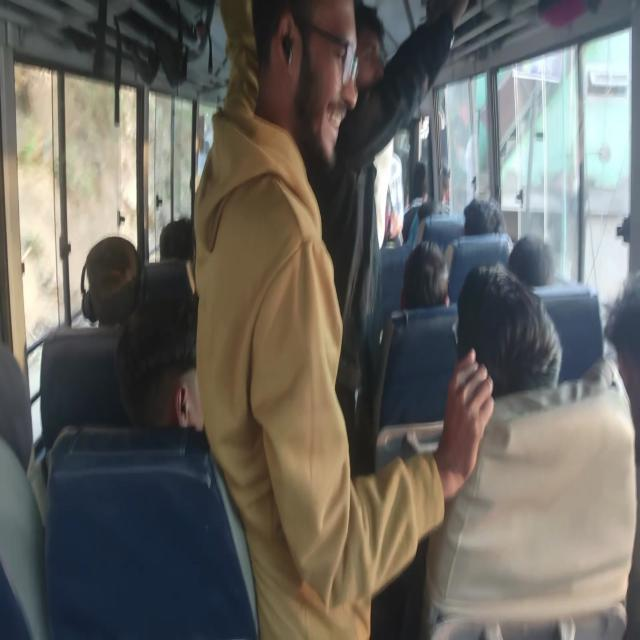person: (193, 0, 495, 638), (310, 0, 469, 468), (455, 261, 563, 398), (115, 291, 204, 431), (80, 234, 142, 328), (401, 239, 450, 310), (507, 233, 554, 288)
